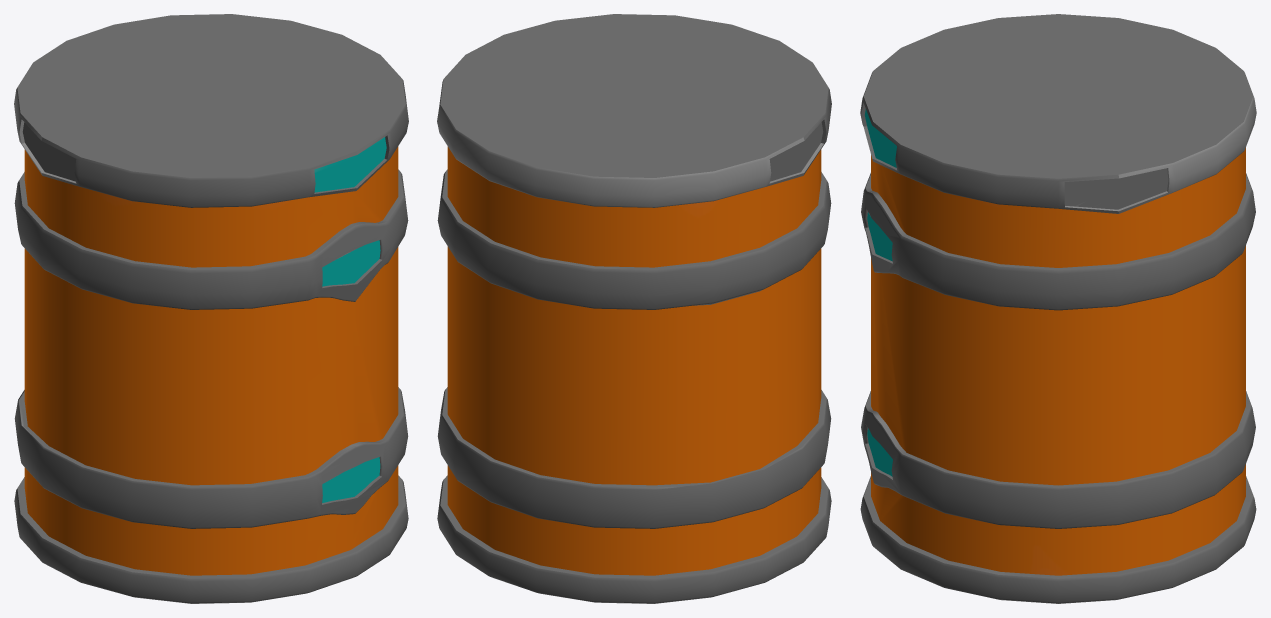
Rendered from Barrel3.fbx.
The picture shows the model from 3 angles, left to right: view 1: azimuth 30°, elevation 25°; view 2: azimuth 150°, elevation 25°; view 3: azimuth 270°, elevation 25°; orthographic projection.
Visible parts, largest first — view 1: Barrel3; view 2: Barrel3; view 3: Barrel3.
Boxes of the visible parts, x1=… form: Barrel3: x1=14, y1=14, x2=408, y2=603; Barrel3: x1=437, y1=14, x2=831, y2=603; Barrel3: x1=860, y1=14, x2=1256, y2=603.
Bounding box in the file's own units: 169 × 202 × 169.
